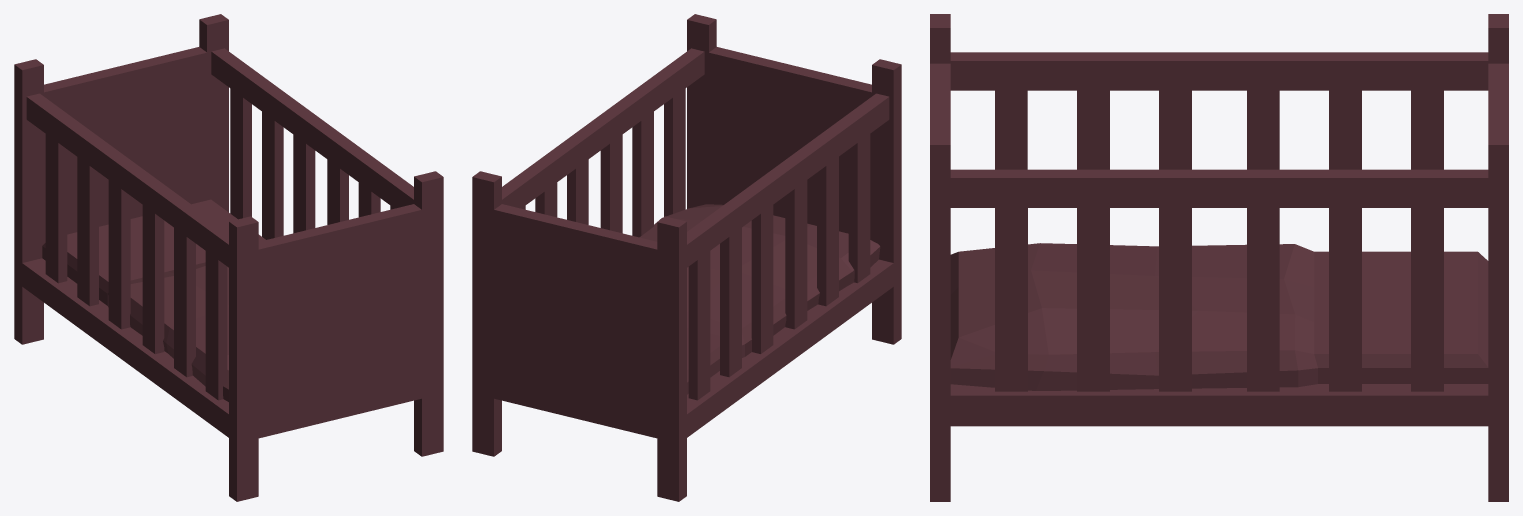
File: toddler-bed.fbx
3 views of the same model, side by side, from view 1: azimuth 30°, elevation 25°; view 2: azimuth 150°, elevation 25°; view 3: azimuth 270°, elevation 25° (orthographic). The views are drawn at different scales.
Parts seen in each view (by area): view 1: toddler-bed; view 2: toddler-bed; view 3: toddler-bed.
Boxes of the visible parts, <box> form: toddler-bed: <box>14,14,443,501</box>; toddler-bed: <box>472,14,901,501</box>; toddler-bed: <box>930,14,1508,501</box>.
Bounding box in the file's own units: 0.67 × 0.8502 × 1.25.
